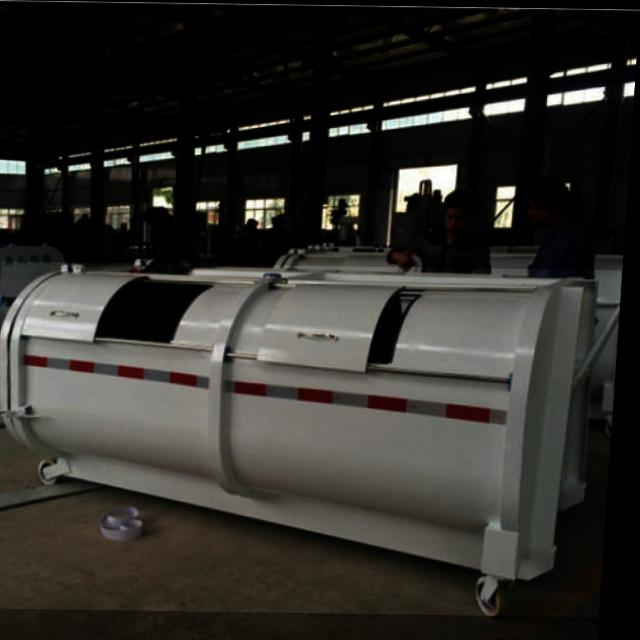garbage_bin: (0, 261, 625, 615)
